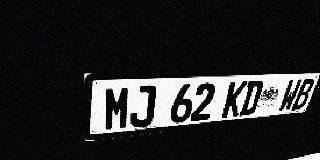2: (190, 83, 217, 122)
6: (169, 83, 197, 124)
B: (291, 78, 316, 110)
D: (238, 81, 265, 116)
J: (129, 85, 157, 128)
K: (221, 81, 248, 118)
M: (104, 86, 131, 131)
W: (277, 79, 303, 112)
